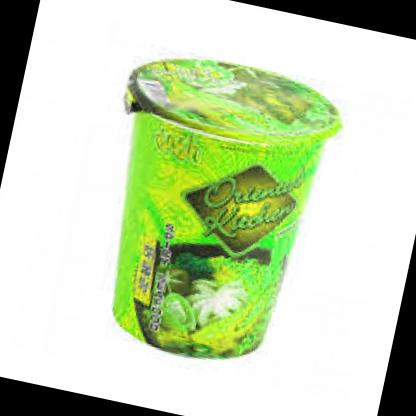Ramen: (76, 40, 344, 382)
